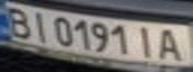0: (48, 14, 75, 47)
1: (109, 21, 133, 56), (69, 17, 93, 51)
9: (87, 19, 112, 53)
A: (154, 26, 190, 62)
B: (0, 3, 33, 38)
I: (24, 9, 54, 43), (133, 24, 160, 58)
